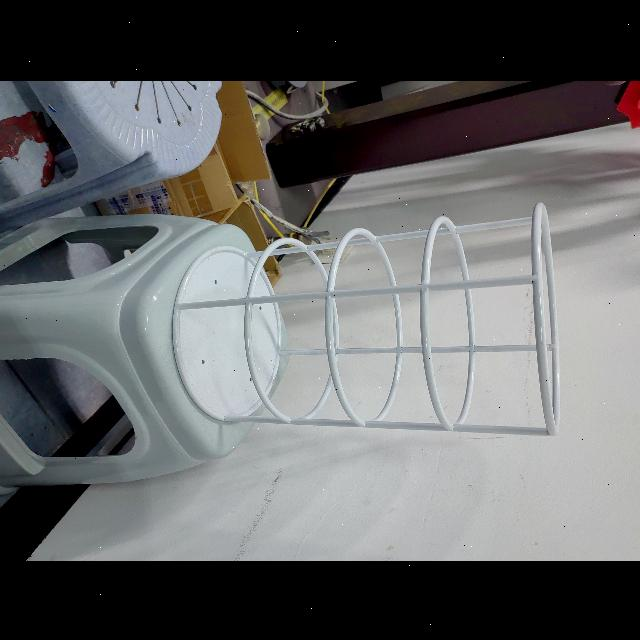S: (164, 193, 572, 443)
